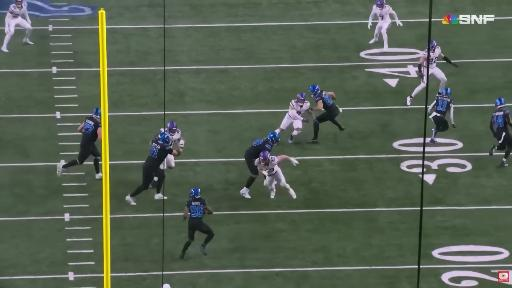Helmet: (158, 133, 170, 145), (268, 132, 279, 144), (259, 151, 270, 162), (167, 122, 177, 134), (190, 188, 200, 199), (310, 85, 320, 96), (297, 93, 306, 104), (495, 98, 505, 107), (376, 0, 385, 9), (93, 108, 101, 118), (430, 40, 437, 51), (442, 88, 450, 97), (15, 0, 23, 7)
Jersey: (144, 140, 173, 169), (246, 138, 273, 159), (81, 116, 101, 144), (491, 108, 510, 136), (314, 90, 338, 112), (186, 198, 207, 222), (255, 156, 278, 175), (435, 96, 454, 117), (423, 47, 441, 69), (160, 129, 181, 146), (372, 5, 391, 22), (290, 100, 310, 116), (8, 2, 27, 18)
Player: (126, 133, 182, 205), (407, 40, 458, 106), (57, 108, 102, 179), (240, 132, 279, 198), (180, 188, 214, 259), (255, 151, 298, 198), (310, 85, 344, 143), (276, 93, 312, 143), (368, 0, 402, 51), (2, 0, 33, 52), (428, 88, 456, 143), (490, 98, 511, 166), (160, 122, 184, 147)
